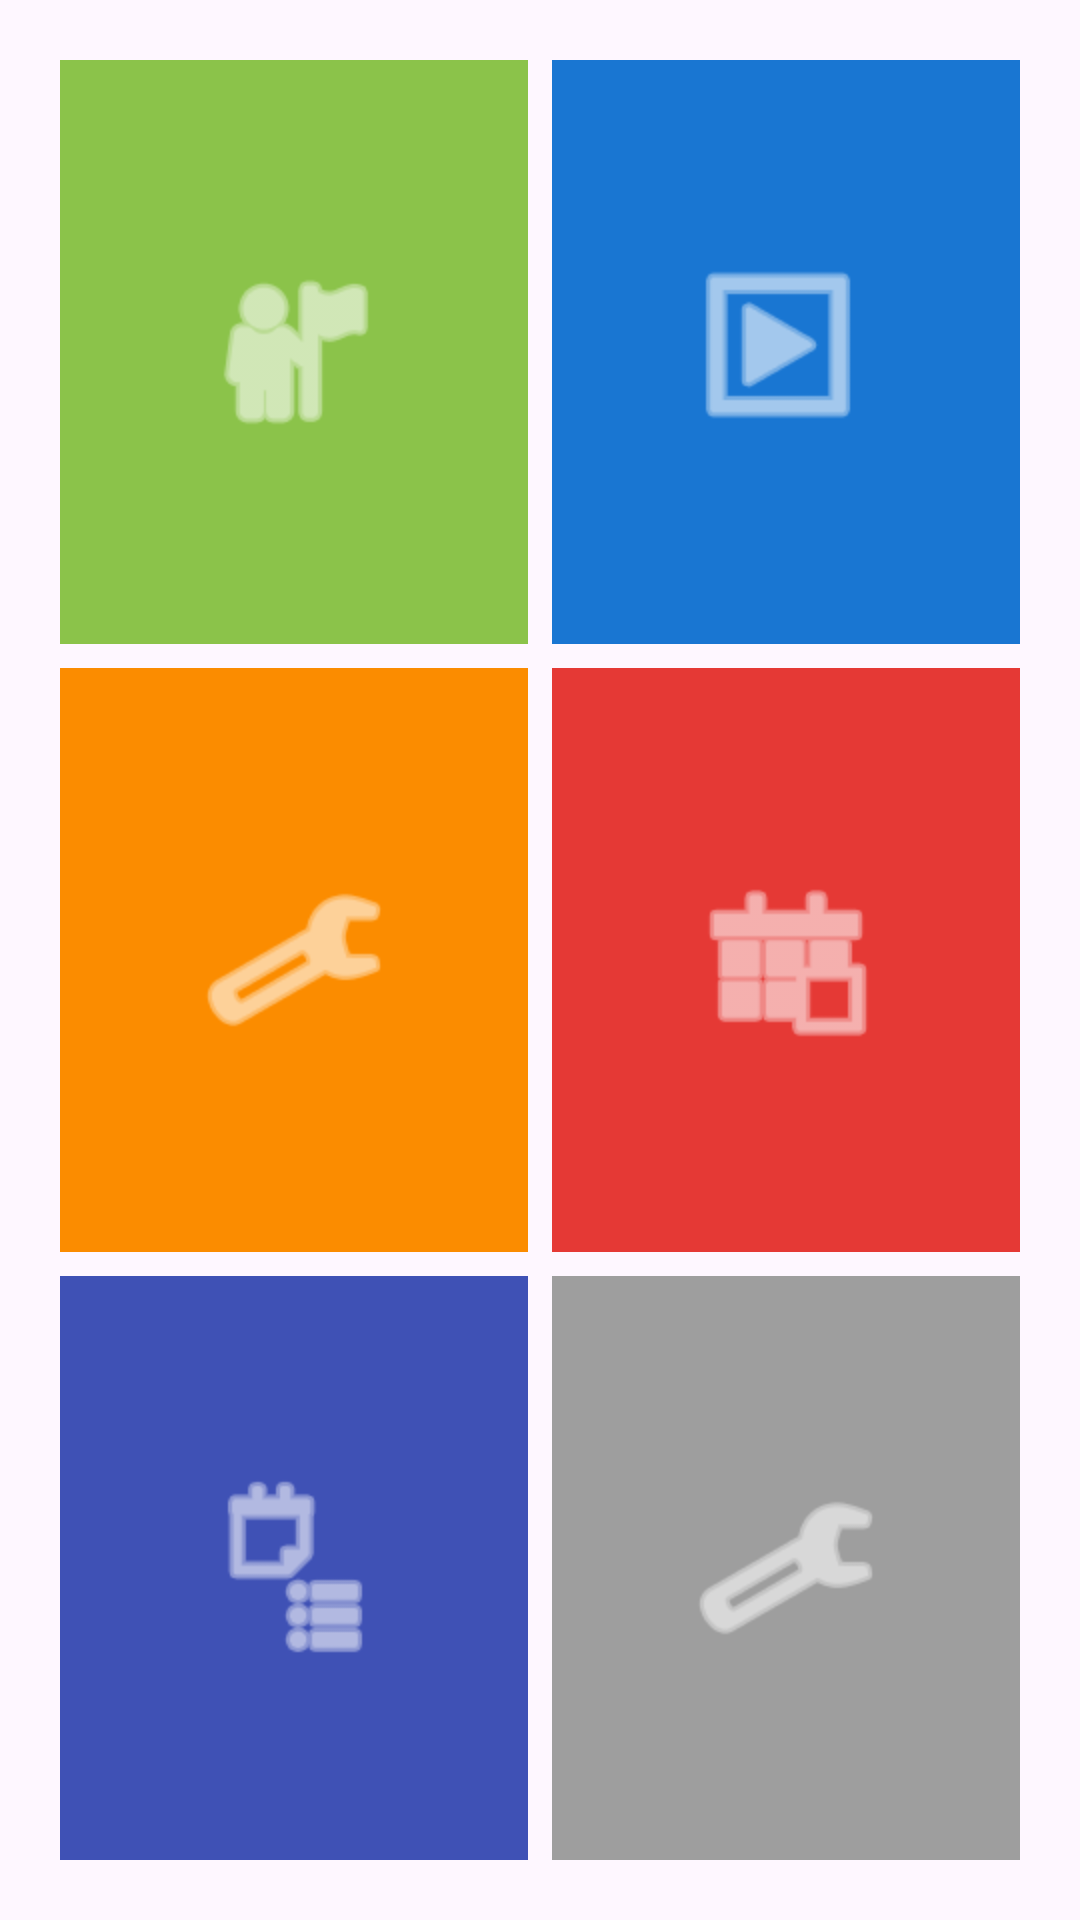

Named icons in this screenshot (1080px x 1920px) and their bounding boxes, (x1, y1, x2, y2):
agenda: (228, 1482, 362, 1652)
manage: (207, 894, 381, 1026), (700, 1503, 872, 1633)
myplaces: (224, 281, 368, 423)
slideshow: (706, 272, 850, 418)
today: (709, 890, 867, 1036)
